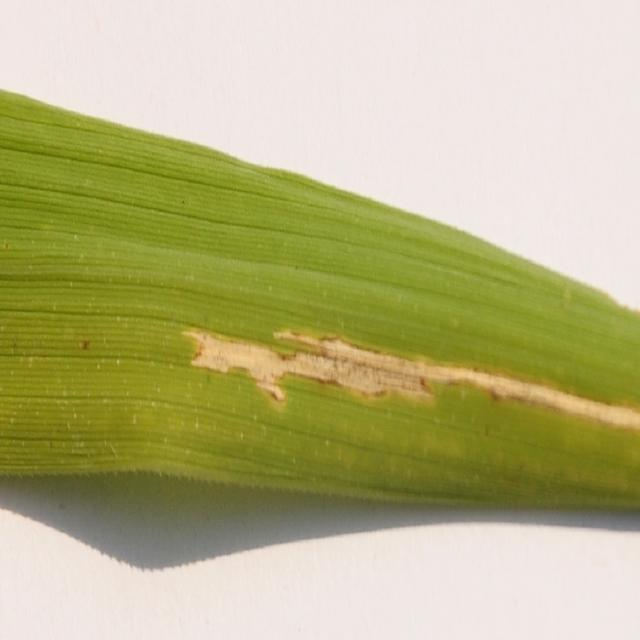leaf blight: (176, 298, 640, 458)
